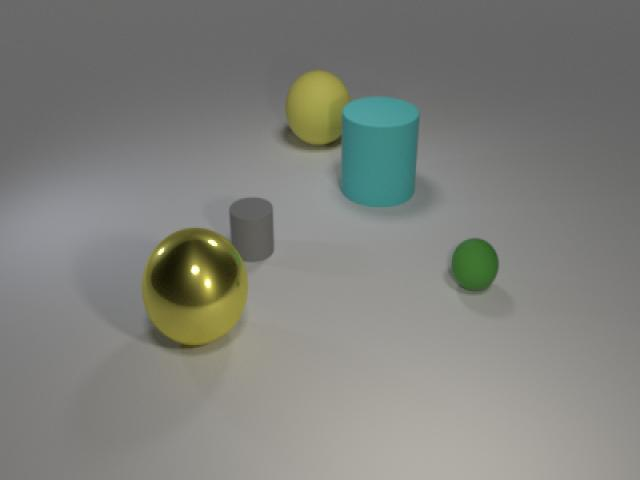cylinder: (336, 89, 425, 216), (222, 191, 285, 268)
round ball: (135, 218, 255, 353), (282, 62, 353, 151), (447, 232, 502, 299)
